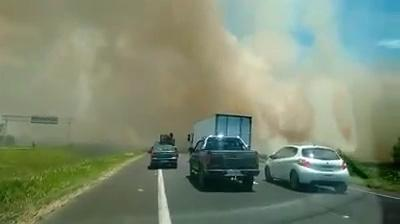smoke: (28, 19, 185, 114)
